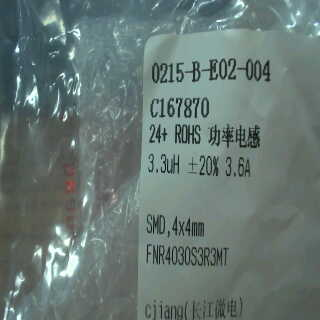3.3uH: (145, 147, 181, 179)
